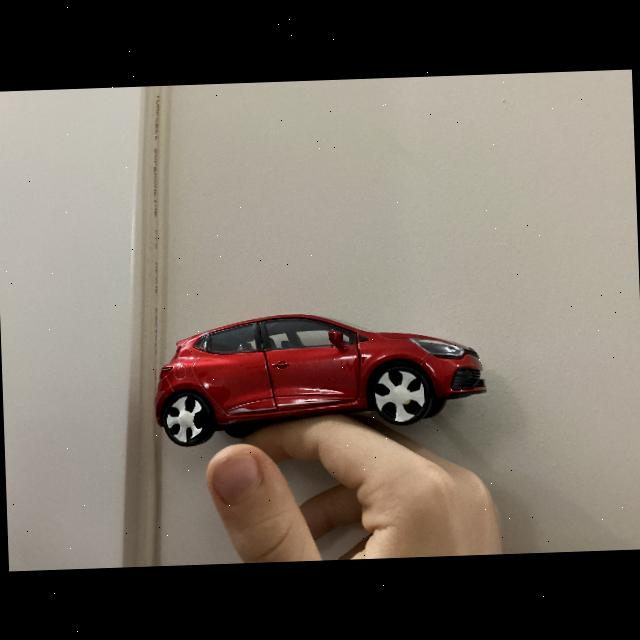Yanlis_Jant: (372, 367, 426, 424), (163, 394, 206, 444)
